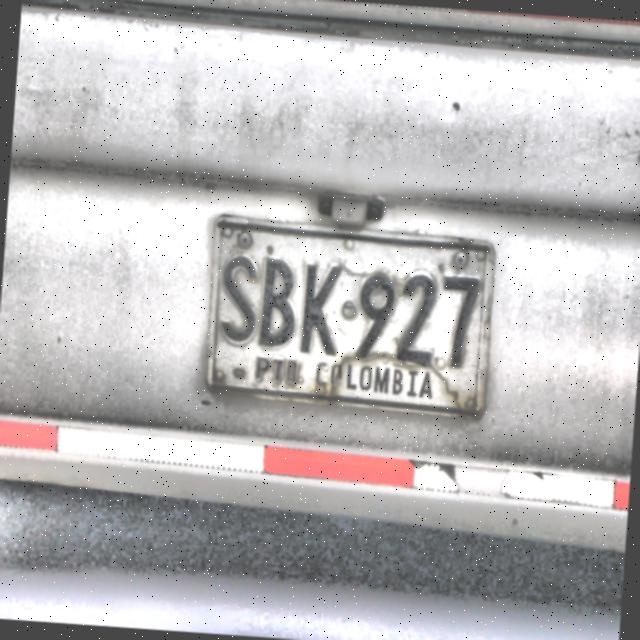plate: (206, 215, 496, 420)
